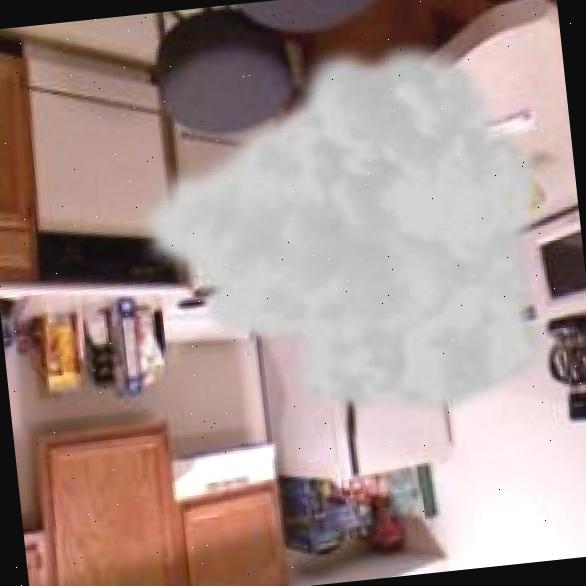smoke: (115, 20, 571, 449)
